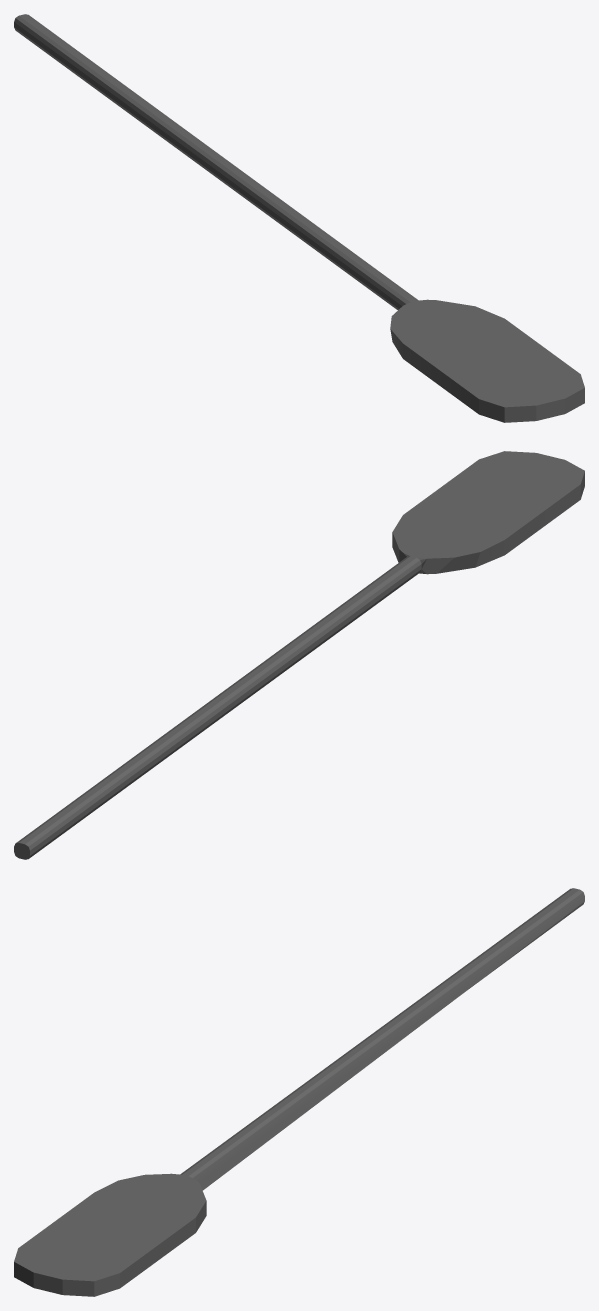
Rendered from paddle_001.glb.
The picture shows the model from 3 angles, top to bottom: view 1: azimuth 30°, elevation 25°; view 2: azimuth 150°, elevation 25°; view 3: azimuth 330°, elevation 25°; orthographic projection.
Visible parts, largest first — view 1: paddle.001; view 2: paddle.001; view 3: paddle.001.
Boxes of the visible parts, x1,y1,x2,y2 form: paddle.001: [14, 14, 584, 422]; paddle.001: [14, 451, 584, 859]; paddle.001: [14, 888, 584, 1296].
Bounding box in the file's own units: 0.4864 × 0.0708 × 4.38.
1 material, 1 textured.
